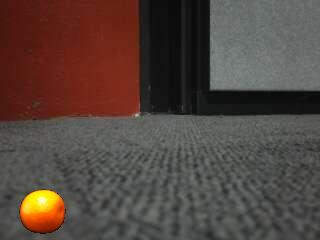Orange: (18, 189, 67, 236)
